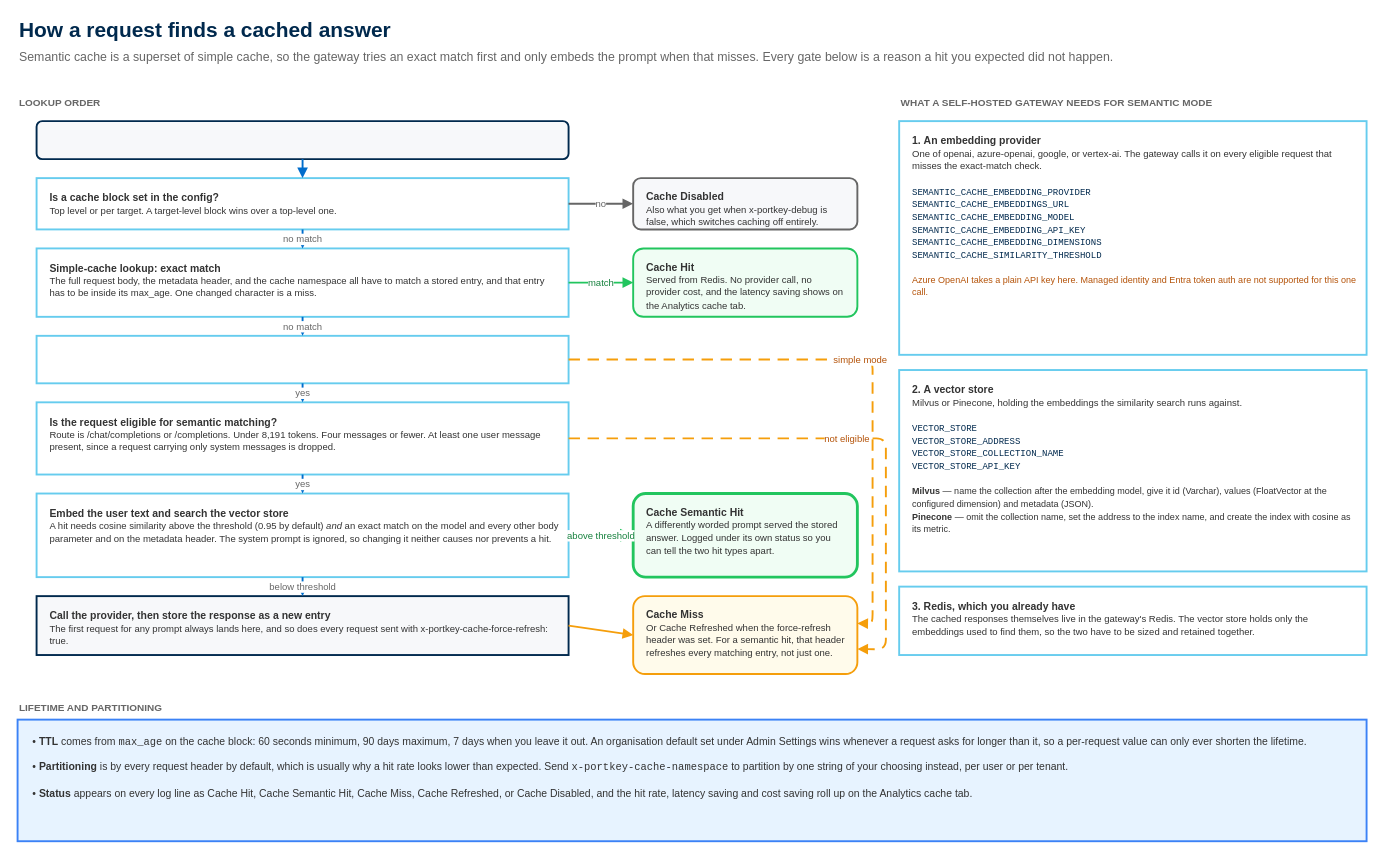
The diagram is 1390 pixels wide and 858 high, and some of its shapes have lost their labels. The shapes that lost their labels are listed below. From the top down, each one's centre as x and y in pixels, then its label:
the point at 302,140: Request arrives at the gateway
the point at 302,359: Is the mode semantic? Simple mode stops here. Semantic mode carries on.
